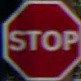Stop: (2, 3, 77, 69)
